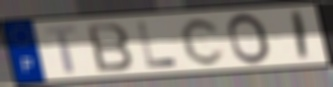B: (84, 21, 135, 73)
C: (179, 16, 227, 67)
I: (291, 9, 311, 63)
L: (135, 21, 180, 70)
O: (225, 12, 274, 67)
T: (42, 24, 79, 75)
